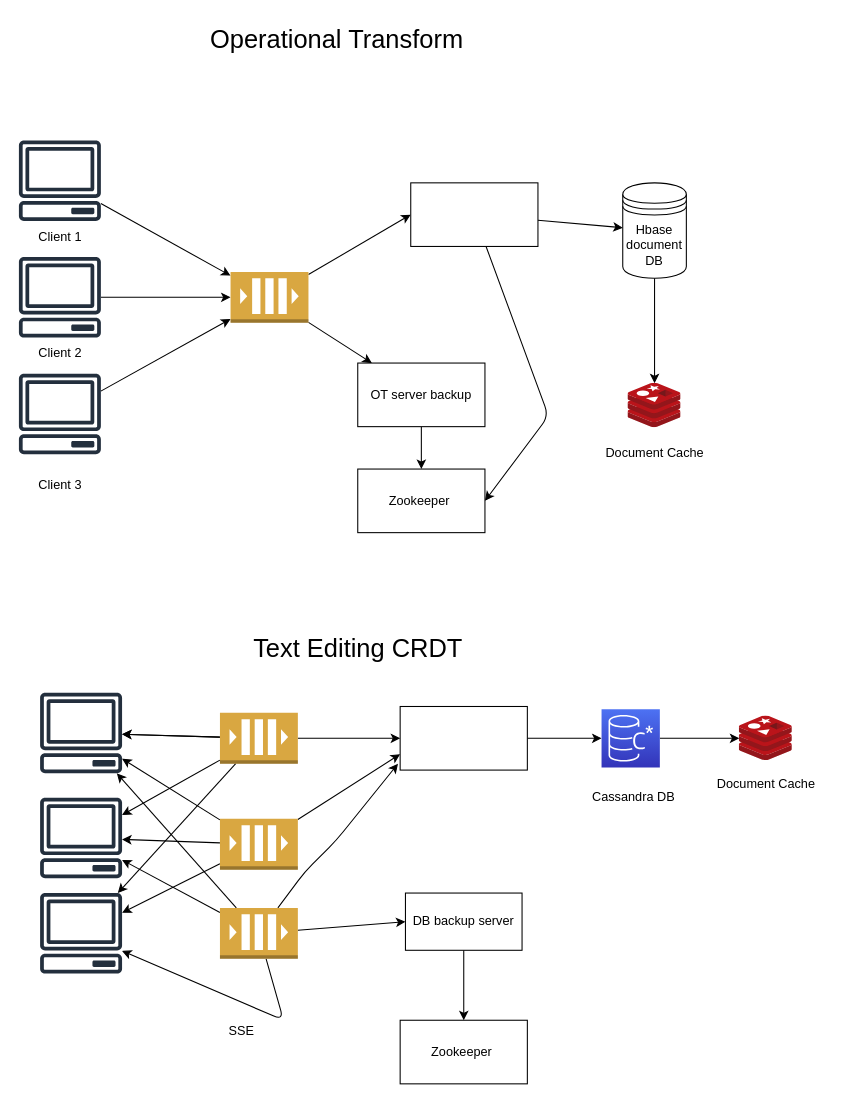
The diagram is 847 pixels wide and 1102 high, and some of its shapes have lost their labels. The centre of each missing label's shape, as x and y in pixels:
Db Primary Server: [463,737]
OT server primary: [474,214]
